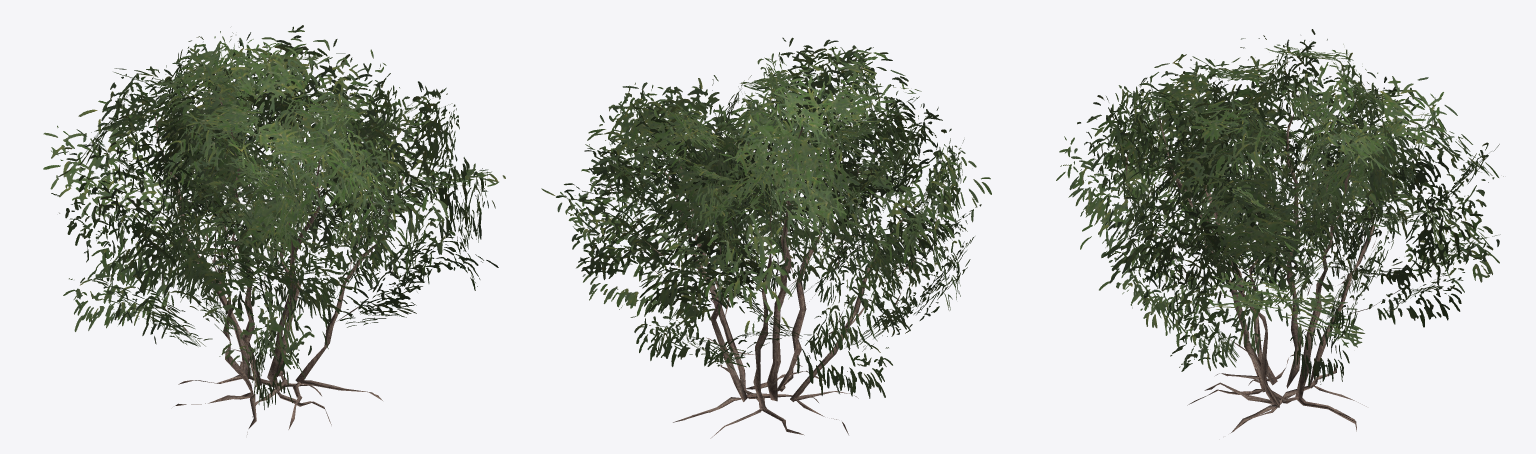
Rendered from oleander-a.glb.
3 views of the same model, side by side, from view 1: azimuth 30°, elevation 25°; view 2: azimuth 150°, elevation 25°; view 3: azimuth 270°, elevation 25° (orthographic). The views are drawn at different scales.
Parts seen in each view (by area): view 1: oleander-a; view 2: oleander-a; view 3: oleander-a.
Boxes of the visible parts, <box> form: oleander-a: <box>43,25,505,434</box>; oleander-a: <box>541,37,991,438</box>; oleander-a: <box>1056,29,1503,433</box>.
Bounding box in the file's own units: 3.71 × 3.25 × 3.87.
Materials: 2 (2 with a texture image).
